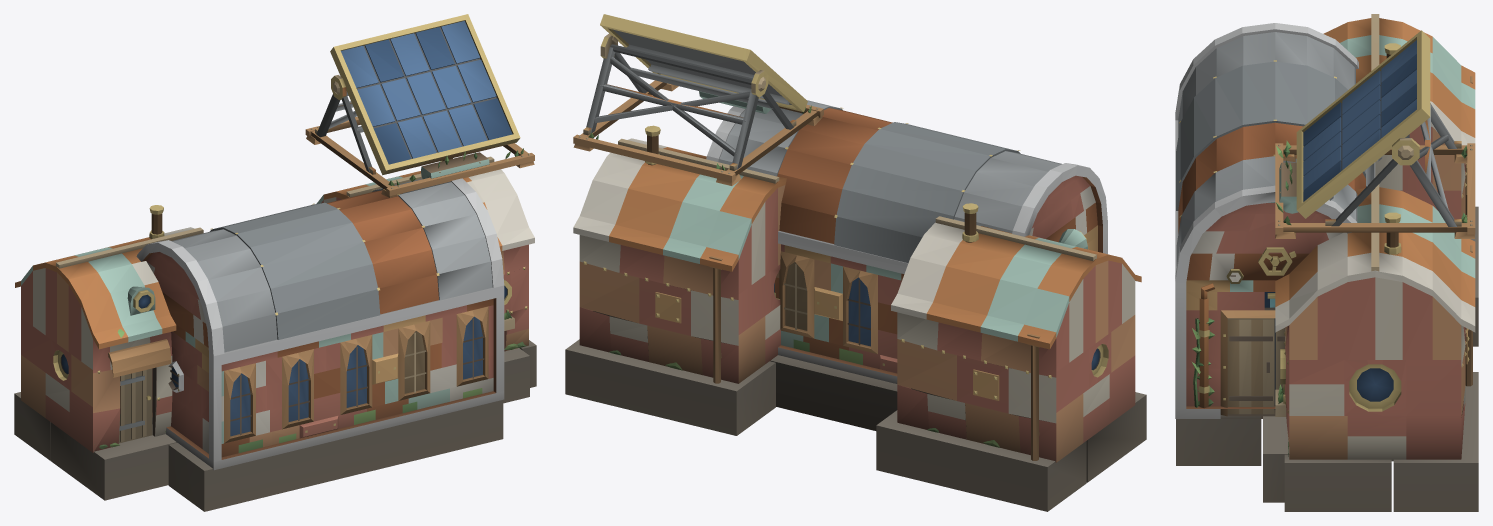
File: terrace.glb
The picture shows the model from 3 angles, left to right: view 1: azimuth 30°, elevation 25°; view 2: azimuth 150°, elevation 25°; view 3: azimuth 270°, elevation 25°; orthographic projection. The views are drawn at different scales.
Parts seen in each view (by area): view 1: terrace; view 2: terrace; view 3: terrace.
Boxes of the visible parts, x1,y1,x2,y2 form: terrace: [14, 14, 536, 511]; terrace: [565, 14, 1146, 511]; terrace: [1175, 14, 1478, 511].
Bounding box in the file's own units: 13.98 × 10.07 × 6.98.
